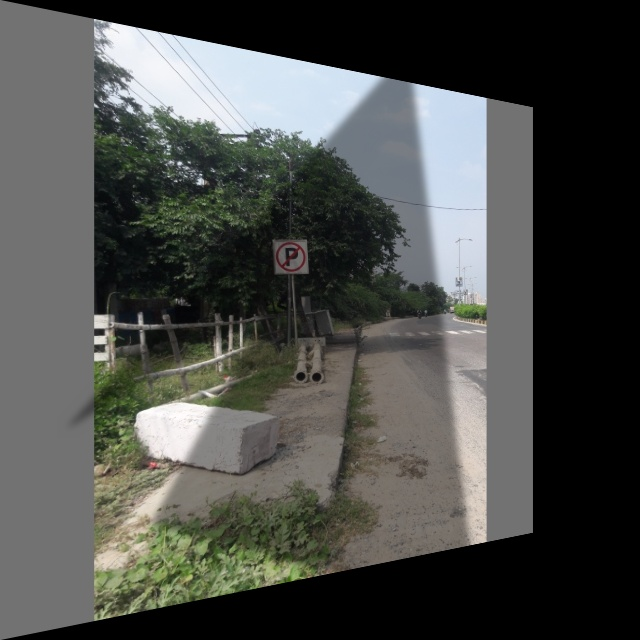No_Parking: (271, 237, 310, 278)
